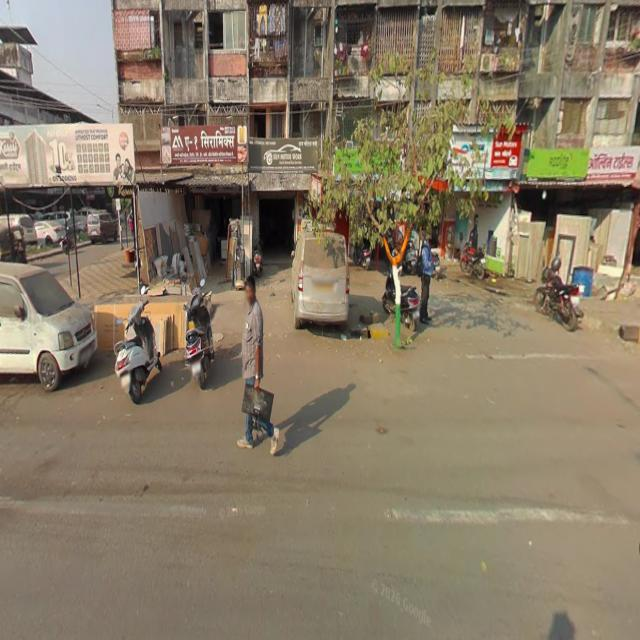Legalparking: (0, 266, 227, 411)
illegalparking: (285, 223, 358, 341), (532, 254, 585, 346)
